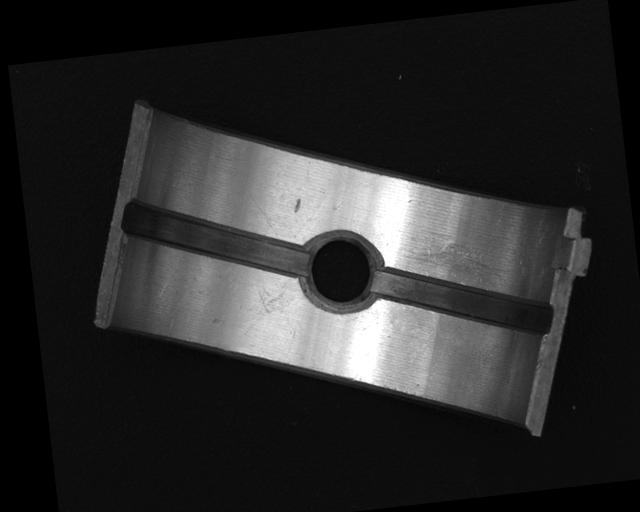bruise: (292, 196, 303, 213)
gap: (122, 181, 309, 295), (372, 253, 555, 353)
hole: (297, 227, 384, 316)
scratch: (402, 233, 511, 295)
